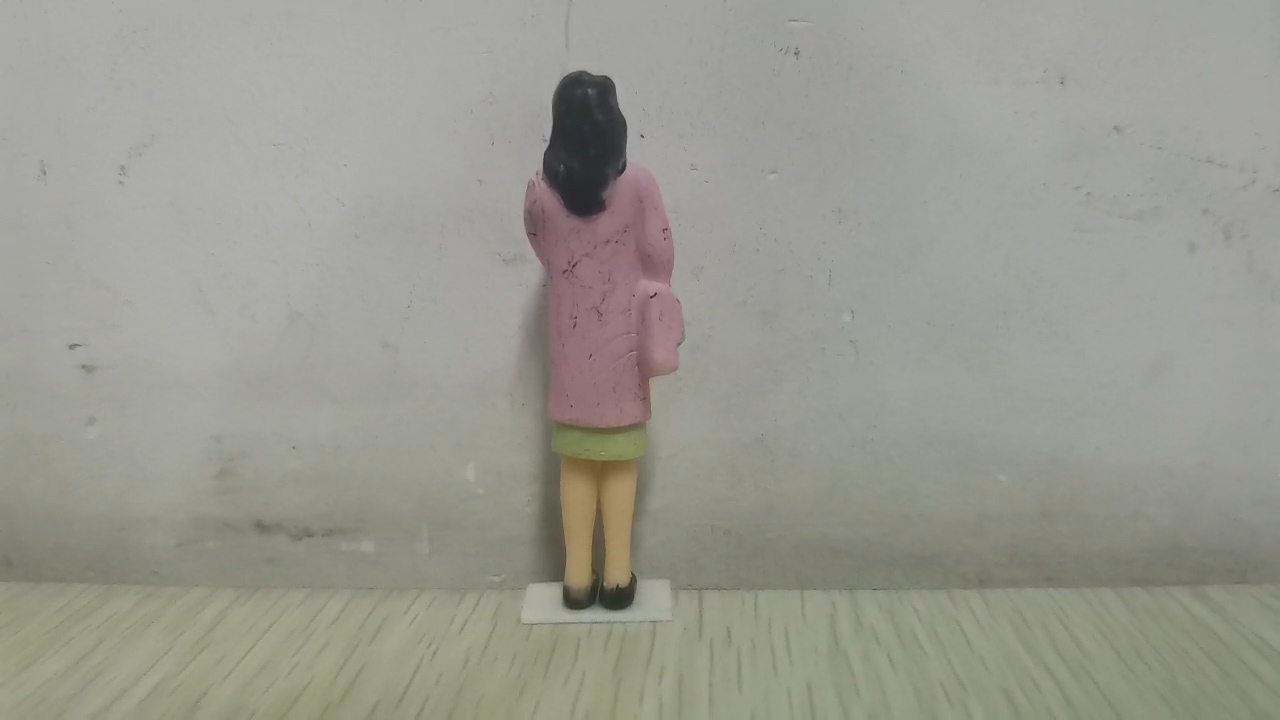person: (519, 68, 687, 614)
